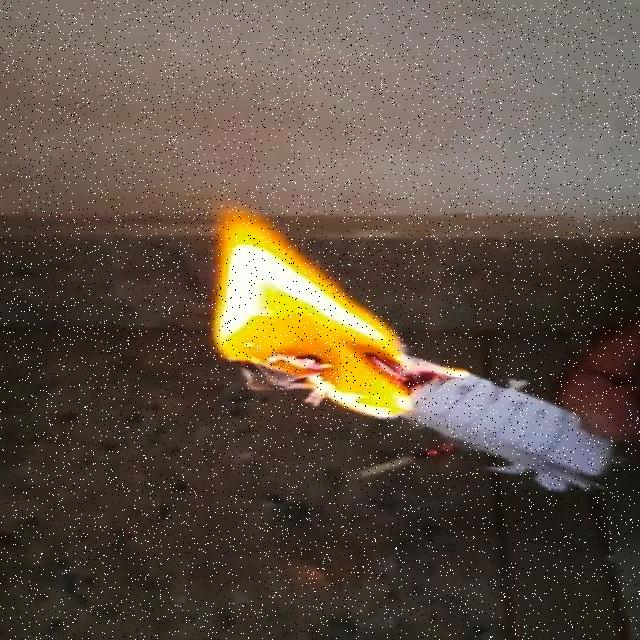fire: (204, 195, 424, 431)
